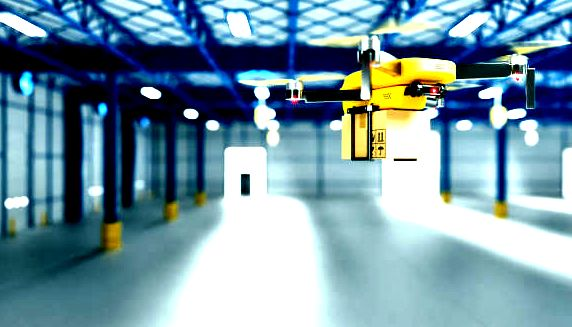Drone: (234, 14, 570, 110)
